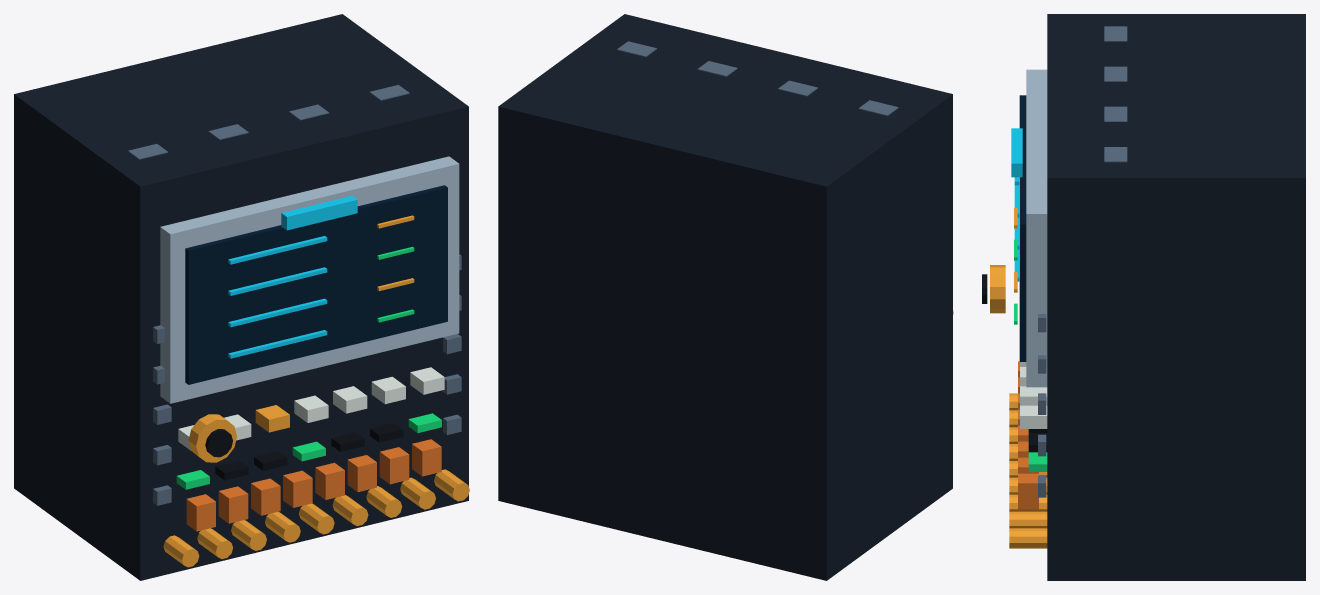
Rendered from 58_L88_VariableFrequencyFanDriveA.fbx.
The picture shows the model from 3 angles, left to right: view 1: azimuth 30°, elevation 25°; view 2: azimuth 150°, elevation 25°; view 3: azimuth 270°, elevation 25°; orthographic projection. The views are drawn at different scales.
Parts seen in each view (by area): view 1: L87_VariableFrequencyFanDriveA_Part_0000, L87_VariableFrequencyFanDriveA_Part_0002, L87_VariableFrequencyFanDriveA_Part_0001, L87_VariableFrequencyFanDriveA_Part_0009, L87_VariableFrequencyFanDriveA_Part_0004, L87_VariableFrequencyFanDriveA_Part_0008, L87_VariableFrequencyFanDriveA_Part_0006, L87_VariableFrequencyFanDriveA_Part_0003, L87_VariableFrequencyFanDriveA_Part_0007, L87_VariableFrequencyFanDriveA_Part_0005, L87_VariableFrequencyFanDriveA_Part_0010, L87_VariableFrequencyFanDriveA_Part_0011 (+1 smaller); view 2: L87_VariableFrequencyFanDriveA_Part_0000, L87_VariableFrequencyFanDriveA_Part_0008; view 3: L87_VariableFrequencyFanDriveA_Part_0000, L87_VariableFrequencyFanDriveA_Part_0001, L87_VariableFrequencyFanDriveA_Part_0004, L87_VariableFrequencyFanDriveA_Part_0008, L87_VariableFrequencyFanDriveA_Part_0002, L87_VariableFrequencyFanDriveA_Part_0009, L87_VariableFrequencyFanDriveA_Part_0006, L87_VariableFrequencyFanDriveA_Part_0011, L87_VariableFrequencyFanDriveA_Part_0010, L87_VariableFrequencyFanDriveA_Part_0005, L87_VariableFrequencyFanDriveA_Part_0003.
Boxes of the visible parts, box(x1,y1,x2,y2) form: L87_VariableFrequencyFanDriveA_Part_0000: box(14, 14, 468, 580); L87_VariableFrequencyFanDriveA_Part_0002: box(185, 185, 447, 384); L87_VariableFrequencyFanDriveA_Part_0001: box(160, 156, 459, 403); L87_VariableFrequencyFanDriveA_Part_0009: box(186, 439, 441, 531); L87_VariableFrequencyFanDriveA_Part_0004: box(163, 215, 469, 567); L87_VariableFrequencyFanDriveA_Part_0008: box(128, 85, 461, 505); L87_VariableFrequencyFanDriveA_Part_0006: box(178, 367, 444, 450); L87_VariableFrequencyFanDriveA_Part_0003: box(228, 236, 327, 358); L87_VariableFrequencyFanDriveA_Part_0007: box(215, 423, 403, 480); L87_VariableFrequencyFanDriveA_Part_0005: box(176, 246, 441, 489); L87_VariableFrequencyFanDriveA_Part_0010: box(281, 196, 357, 230); L87_VariableFrequencyFanDriveA_Part_0011: box(188, 414, 236, 462); L87_VariableFrequencyFanDriveA_Part_0000: box(498, 14, 952, 580); L87_VariableFrequencyFanDriveA_Part_0008: box(617, 41, 898, 115); L87_VariableFrequencyFanDriveA_Part_0000: box(1047, 14, 1305, 580); L87_VariableFrequencyFanDriveA_Part_0001: box(1026, 69, 1047, 387); L87_VariableFrequencyFanDriveA_Part_0004: box(1009, 207, 1047, 548); L87_VariableFrequencyFanDriveA_Part_0008: box(1038, 26, 1127, 497); L87_VariableFrequencyFanDriveA_Part_0002: box(1019, 95, 1026, 361); L87_VariableFrequencyFanDriveA_Part_0009: box(1018, 361, 1038, 509); L87_VariableFrequencyFanDriveA_Part_0006: box(1020, 362, 1047, 428); L87_VariableFrequencyFanDriveA_Part_0011: box(990, 265, 1005, 313); L87_VariableFrequencyFanDriveA_Part_0010: box(1011, 128, 1022, 177); L87_VariableFrequencyFanDriveA_Part_0005: box(1014, 239, 1047, 471); L87_VariableFrequencyFanDriveA_Part_0003: box(1014, 177, 1019, 281).
Bounding box in the file's own units: 104 × 120 × 86.88.
